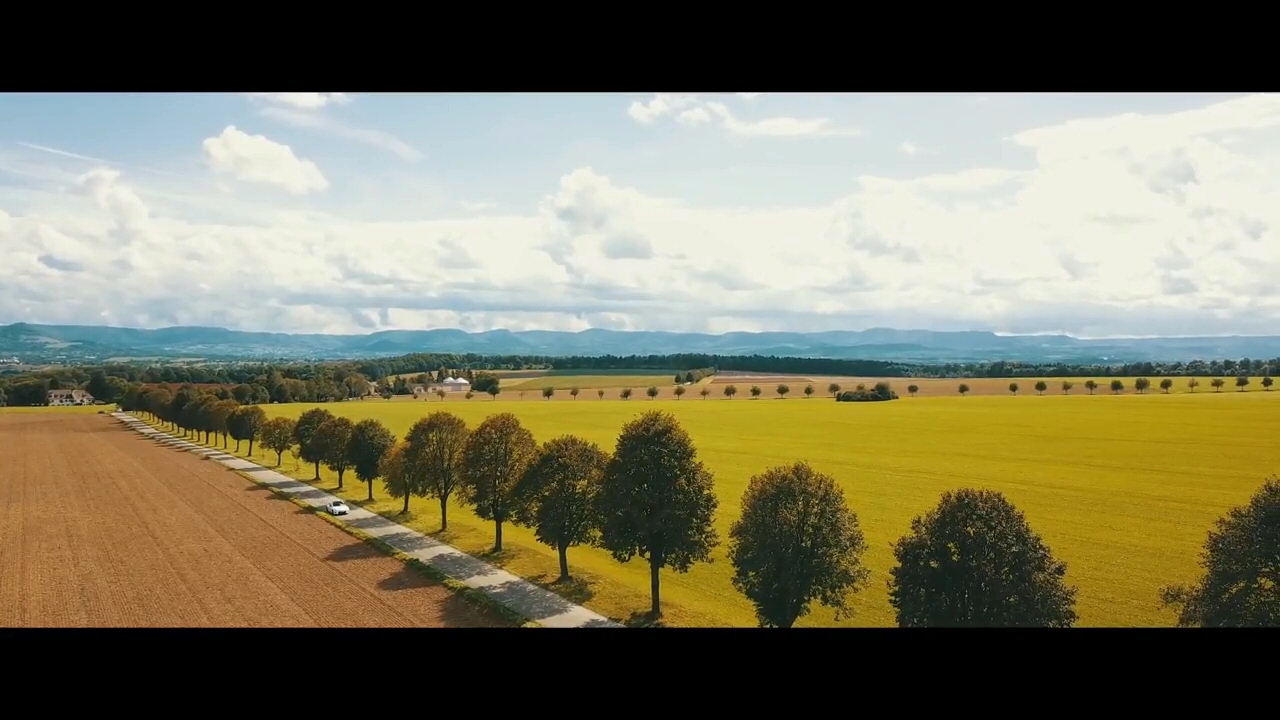araba: (325, 497, 349, 517)
